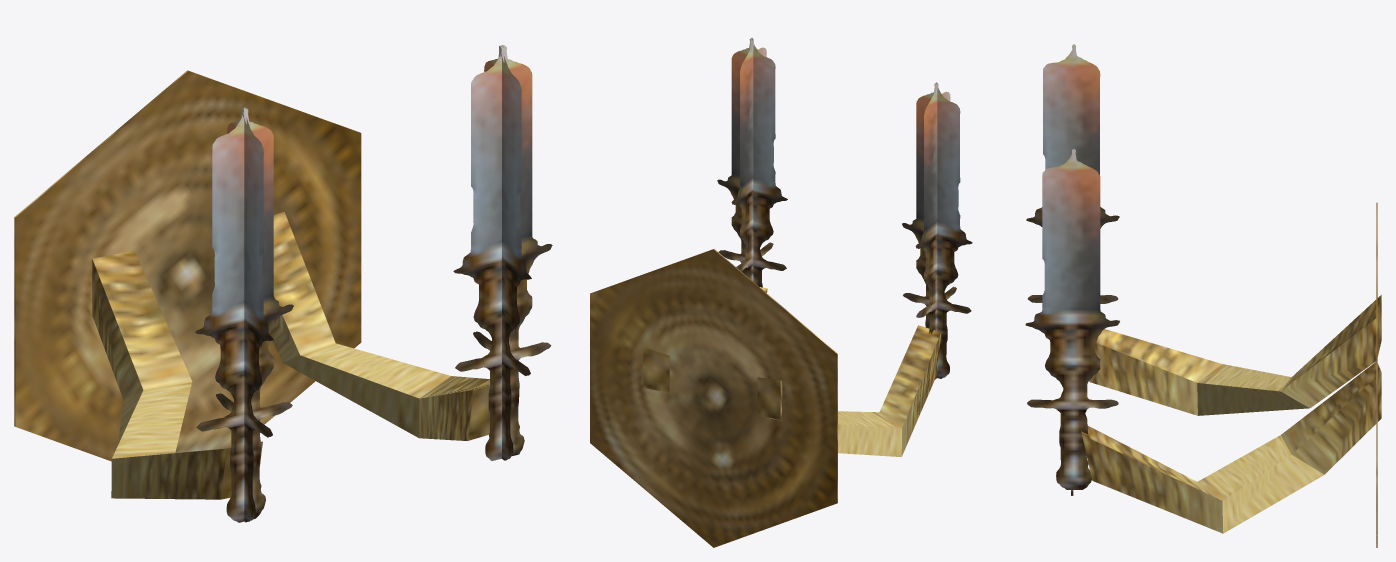
File: candle_holder.fbx
3 views of the same model, side by side, from view 1: azimuth 30°, elevation 25°; view 2: azimuth 150°, elevation 25°; view 3: azimuth 270°, elevation 25° (orthographic). The views are drawn at different scales.
Parts seen in each view (by area): view 1: candle_holder; view 2: candle_holder; view 3: candle_holder.
Part boxes in pixels (x1=…): candle_holder: x1=14, y1=45, x2=552, y2=522; candle_holder: x1=590, y1=38, x2=972, y2=547; candle_holder: x1=1025, y1=44, x2=1381, y2=547.
Bounding box in the file's own units: 34.32 × 47.79 × 35.08.
